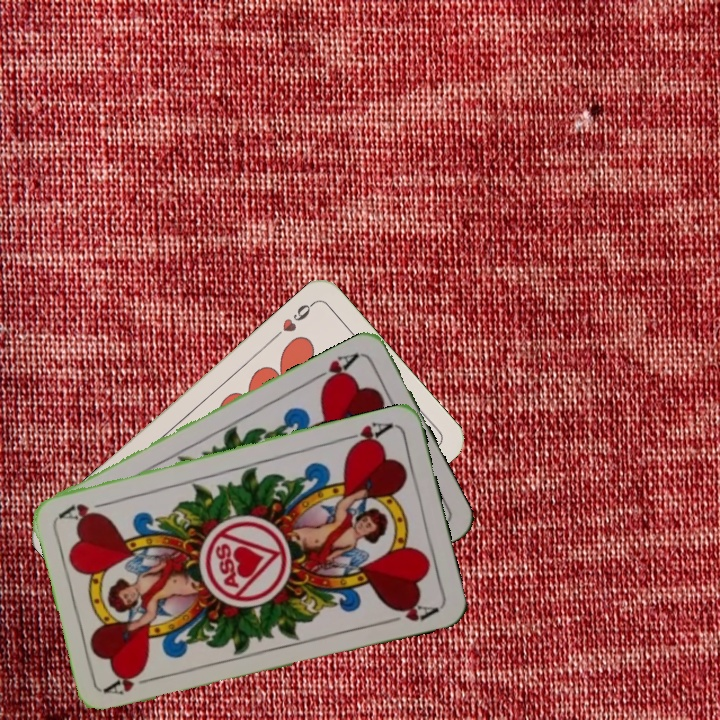H9: (269, 298, 317, 342)
HA: (308, 349, 362, 390), (338, 418, 396, 452), (101, 666, 160, 697)
